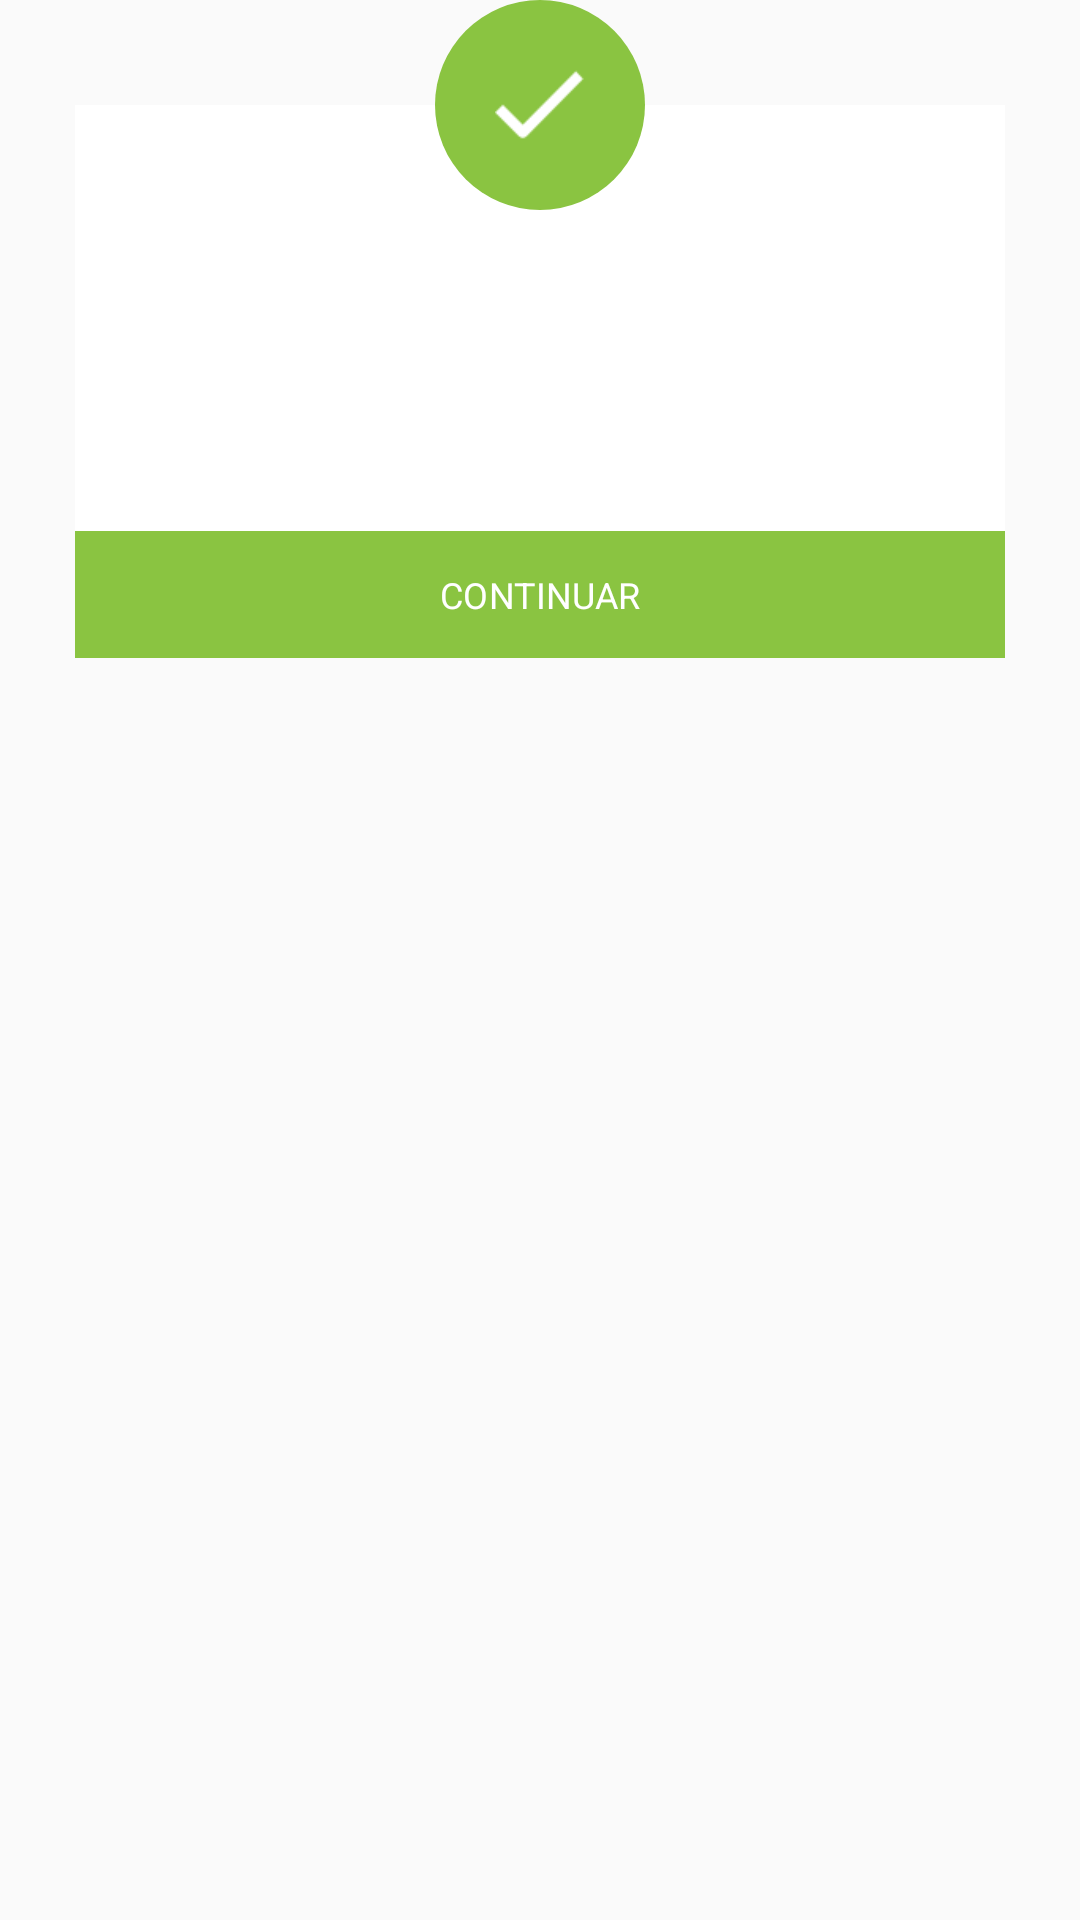

Where to tap for icons on this 1080w x 1920h app screen, as (x=x, y=y):
check popup: (x=540, y=105)
